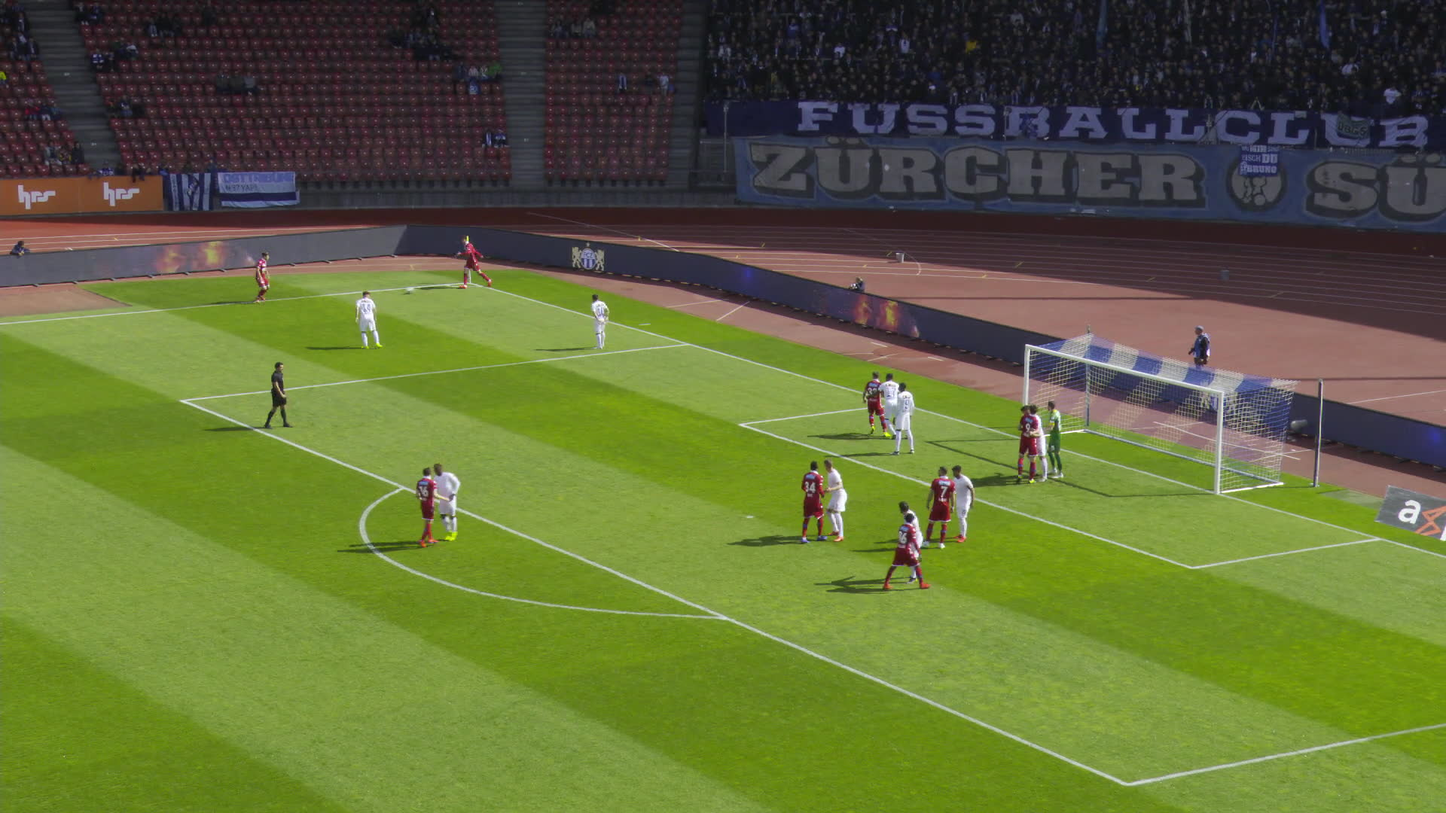ball: (414, 285, 421, 291)
player: (921, 466, 956, 550), (896, 511, 929, 589), (429, 467, 462, 544), (819, 462, 847, 544), (801, 460, 827, 543), (1014, 405, 1040, 485), (863, 370, 892, 440), (949, 464, 975, 542), (454, 236, 492, 288), (1041, 400, 1065, 480), (897, 501, 921, 581), (1027, 404, 1051, 483), (355, 290, 384, 350), (415, 469, 436, 547), (876, 373, 901, 437), (893, 382, 915, 453), (590, 297, 613, 350), (265, 251, 284, 304)
referee: (267, 361, 293, 429)
